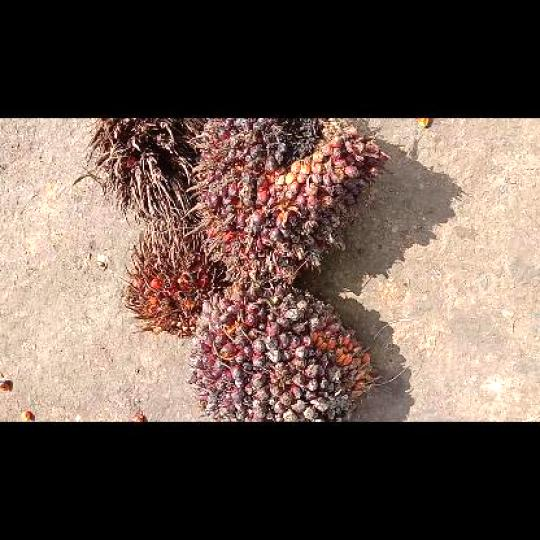kurang masak: (186, 283, 383, 421)
masak: (182, 118, 392, 287)
terlalu masak: (120, 216, 220, 340)
